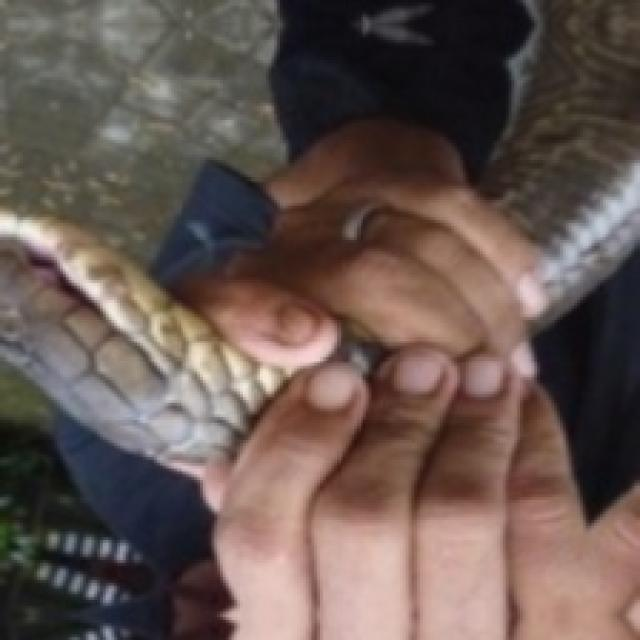king cobra: (0, 0, 274, 254), (0, 271, 274, 460), (480, 0, 637, 320)
